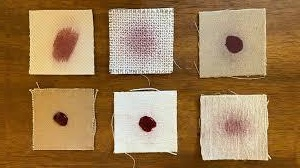wine: (121, 23, 158, 60), (50, 23, 79, 65), (212, 108, 251, 136), (220, 33, 243, 54), (138, 116, 159, 136), (56, 109, 73, 129)
